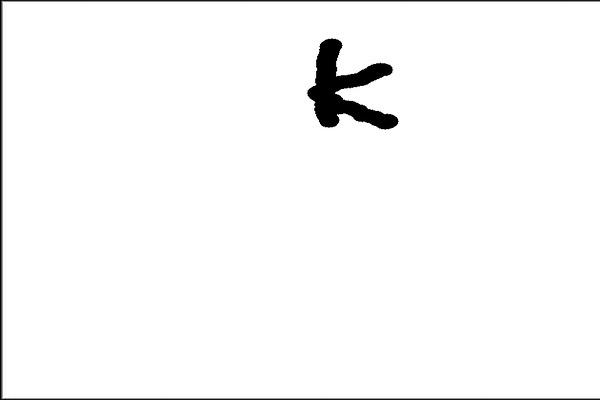K: (299, 33, 403, 140)
